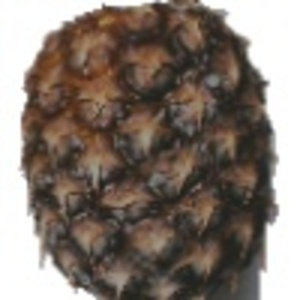abacaxi: (13, 6, 285, 297)
